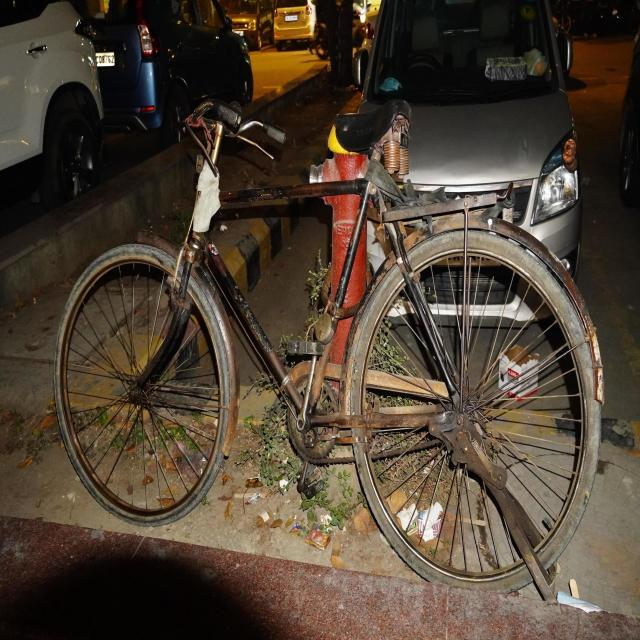bicycle: (55, 99, 604, 602)
car: (74, 0, 254, 144)
